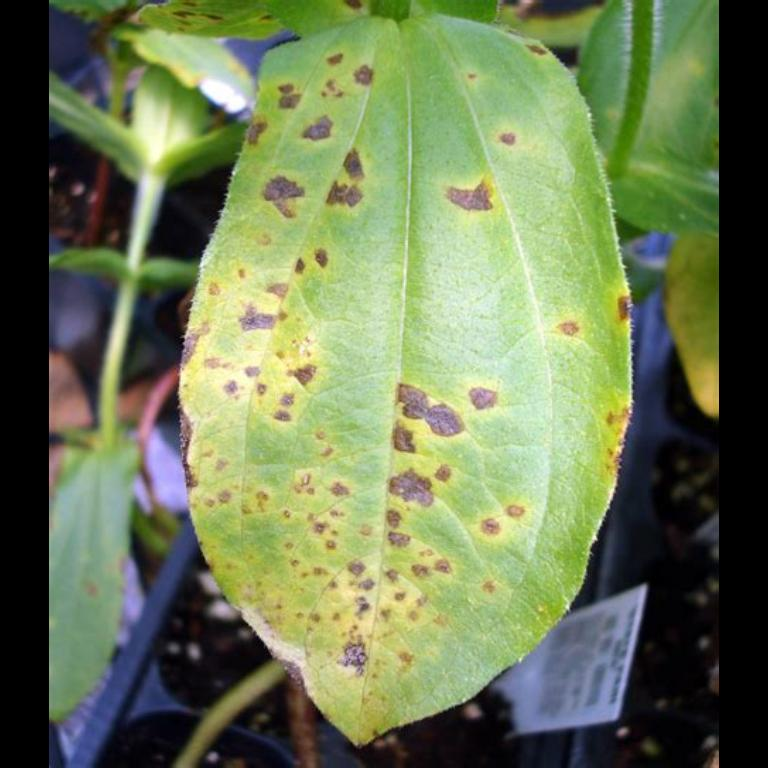blight: (392, 346, 494, 560), (196, 268, 326, 409)
